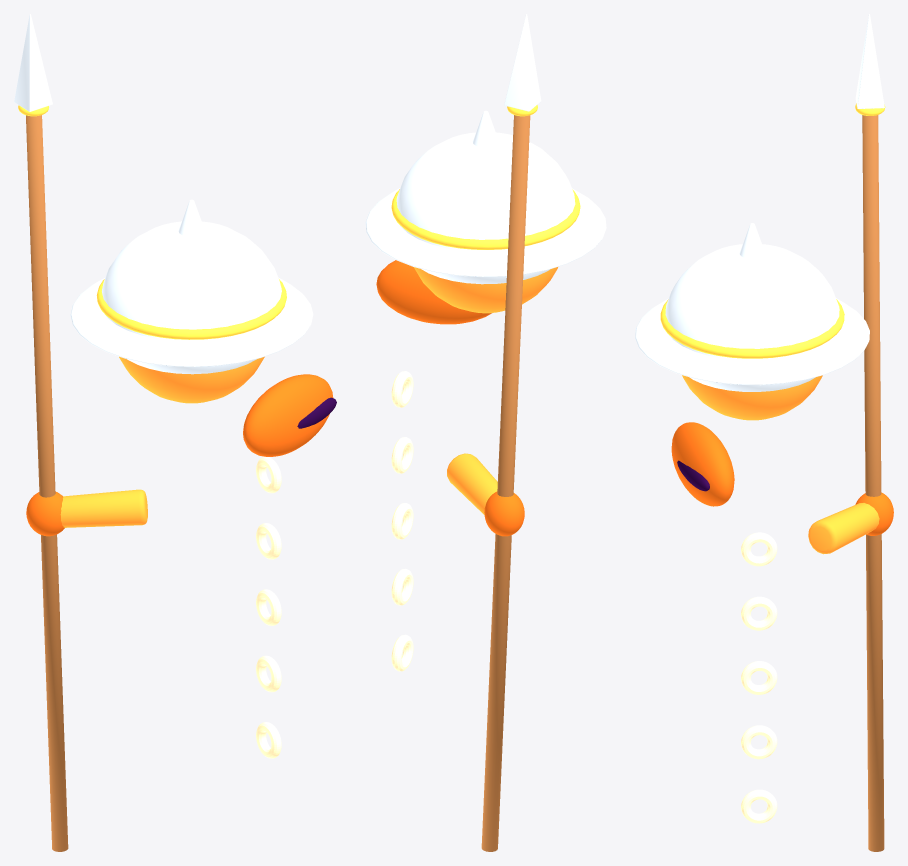
File: guard.glb
3 views of the same model, side by side, from view 1: azimuth 30°, elevation 25°; view 2: azimuth 150°, elevation 25°; view 3: azimuth 270°, elevation 25° (orthographic). The views are drawn at different scales.
Visible parts, largest first — view 1: T_guard_Helm.001, T_guard_Schaft.001, T_guard_Krempe.001, T_guard_Lippe.001, T_guard_Kuppe.001, T_guard_Arm.001, T_guard_Helmband.001, T_guard_Spitze.001, T_guard_Hand.001, T_guard_Napf3.001, T_guard_Napf0.001, T_guard_Napf1.001 (+3 smaller); view 2: T_guard_Helm.001, T_guard_Schaft.001, T_guard_Krempe.001, T_guard_Lippe.001, T_guard_Kuppe.001, T_guard_Helmband.001, T_guard_Spitze.001, T_guard_Arm.001, T_guard_Hand.001, T_guard_Napf4.001, T_guard_Napf3.001, T_guard_Napf1.001 (+3 smaller); view 3: T_guard_Helm.001, T_guard_Schaft.001, T_guard_Krempe.001, T_guard_Lippe.001, T_guard_Kuppe.001, T_guard_Arm.001, T_guard_Helmband.001, T_guard_Spitze.001, T_guard_Napf0.001, T_guard_Napf3.001, T_guard_Napf4.001, T_guard_Napf1.001 (+3 smaller).
Part boxes in pixels (x1,y1,x2,y2): T_guard_Helm.001: (102, 221, 281, 374); T_guard_Schaft.001: (26, 115, 68, 851); T_guard_Krempe.001: (70, 277, 313, 366); T_guard_Lippe.001: (243, 374, 333, 456); T_guard_Kuppe.001: (119, 356, 264, 403); T_guard_Arm.001: (60, 489, 147, 527); T_guard_Helmband.001: (96, 279, 286, 339); T_guard_Spitze.001: (14, 14, 52, 111); T_guard_Hand.001: (26, 492, 64, 536); T_guard_Napf3.001: (256, 655, 281, 692); T_guard_Napf0.001: (256, 456, 281, 493); T_guard_Napf1.001: (256, 523, 281, 559); T_guard_Helm.001: (396, 132, 575, 284); T_guard_Schaft.001: (481, 115, 530, 851); T_guard_Krempe.001: (365, 188, 606, 276); T_guard_Lippe.001: (376, 260, 491, 324); T_guard_Kuppe.001: (414, 267, 557, 313); T_guard_Helmband.001: (391, 189, 580, 249); T_guard_Spitze.001: (504, 14, 541, 111); T_guard_Arm.001: (447, 453, 497, 514); T_guard_Hand.001: (484, 491, 524, 536); T_guard_Napf4.001: (391, 634, 413, 671); T_guard_Napf3.001: (391, 568, 413, 605); T_guard_Napf1.001: (391, 437, 413, 473); T_guard_Helm.001: (665, 244, 839, 391); T_guard_Schaft.001: (862, 115, 884, 851); T_guard_Krempe.001: (635, 298, 869, 385); T_guard_Lippe.001: (671, 422, 734, 506); T_guard_Kuppe.001: (682, 375, 822, 420); T_guard_Arm.001: (808, 503, 879, 554); T_guard_Helmband.001: (660, 299, 844, 358); T_guard_Spitze.001: (855, 14, 884, 108); T_guard_Napf0.001: (741, 532, 777, 566); T_guard_Napf3.001: (741, 725, 777, 759); T_guard_Napf4.001: (741, 789, 777, 823); T_guard_Napf1.001: (741, 596, 777, 630).
Size of the model in its own units: 0.8417 by 2.89 by 0.8276.
